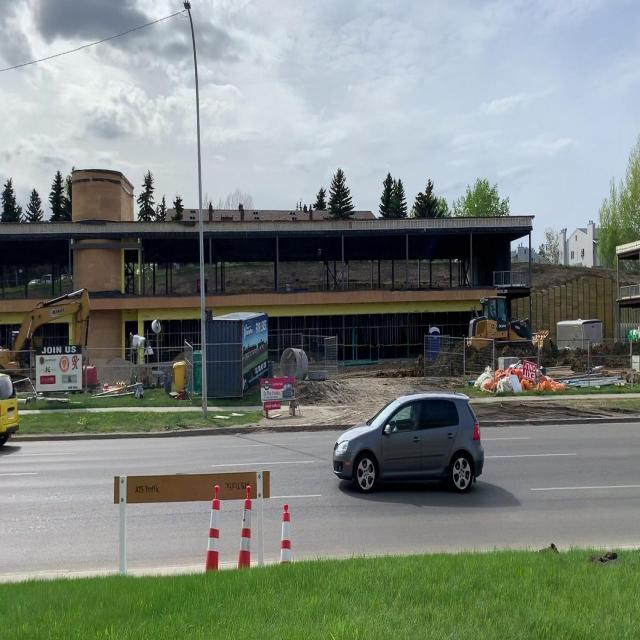Excavator: (1, 284, 93, 377)
Loader: (462, 279, 552, 370)
